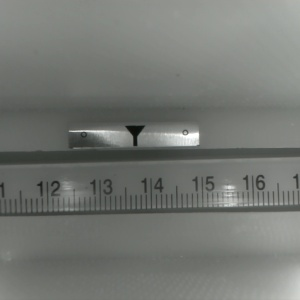1: (88, 179, 95, 194), (36, 181, 43, 196), (0, 181, 6, 198), (242, 175, 248, 191), (292, 173, 298, 189), (140, 178, 146, 193), (192, 176, 198, 191)
2: (50, 181, 61, 196)
3: (102, 179, 112, 194)
4: (153, 177, 163, 192)
5: (205, 176, 214, 192)
6: (255, 174, 265, 190)
finger: (123, 126, 145, 147)
